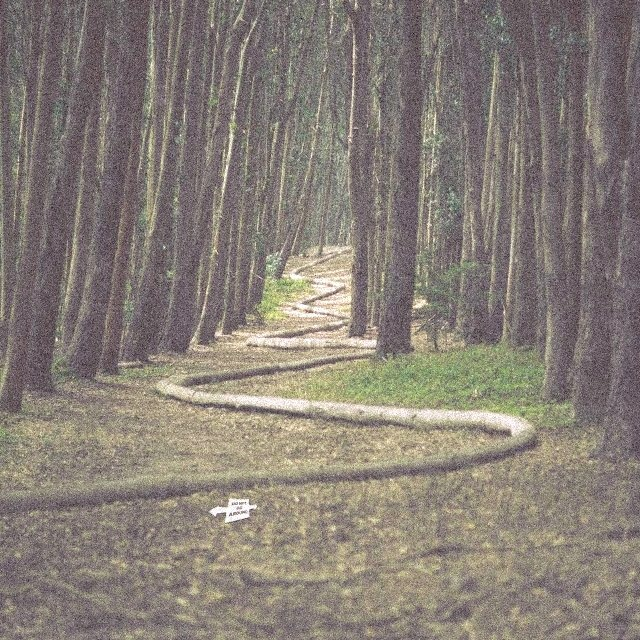DO_NOT_GO_AROUND: (207, 498, 258, 524)
